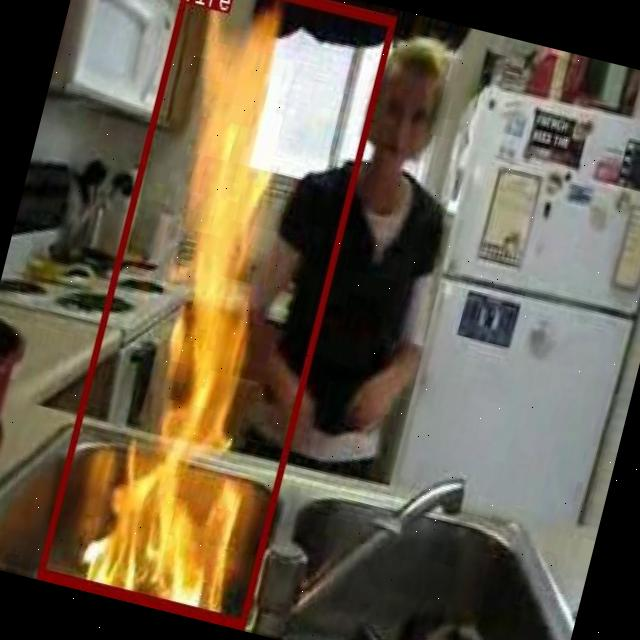fire: (36, 0, 395, 625)
